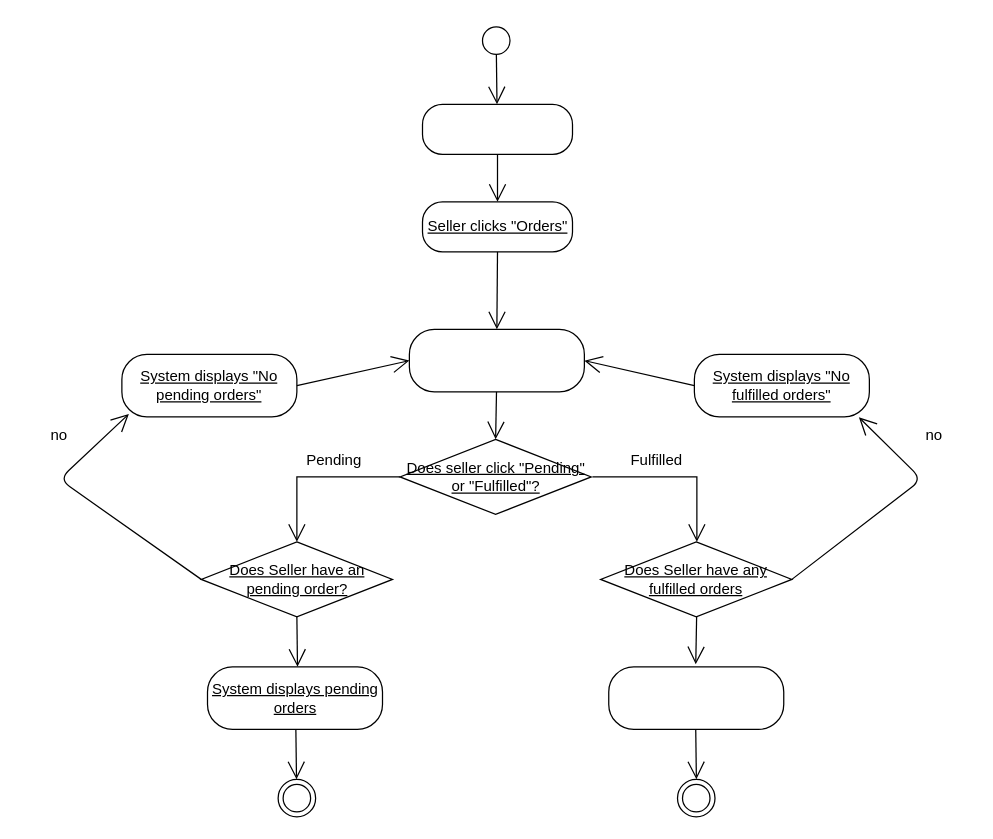
Image size: 993x839. Some labels were removed from this diagram. Each missing label, with the centre of its shape:
Seller is currently logged in and is at dashboard: (x=496, y=128)
System displays fulfilled orders: (x=696, y=697)
System displays two buttons "Fullfilled" or "Pending": (x=496, y=360)
